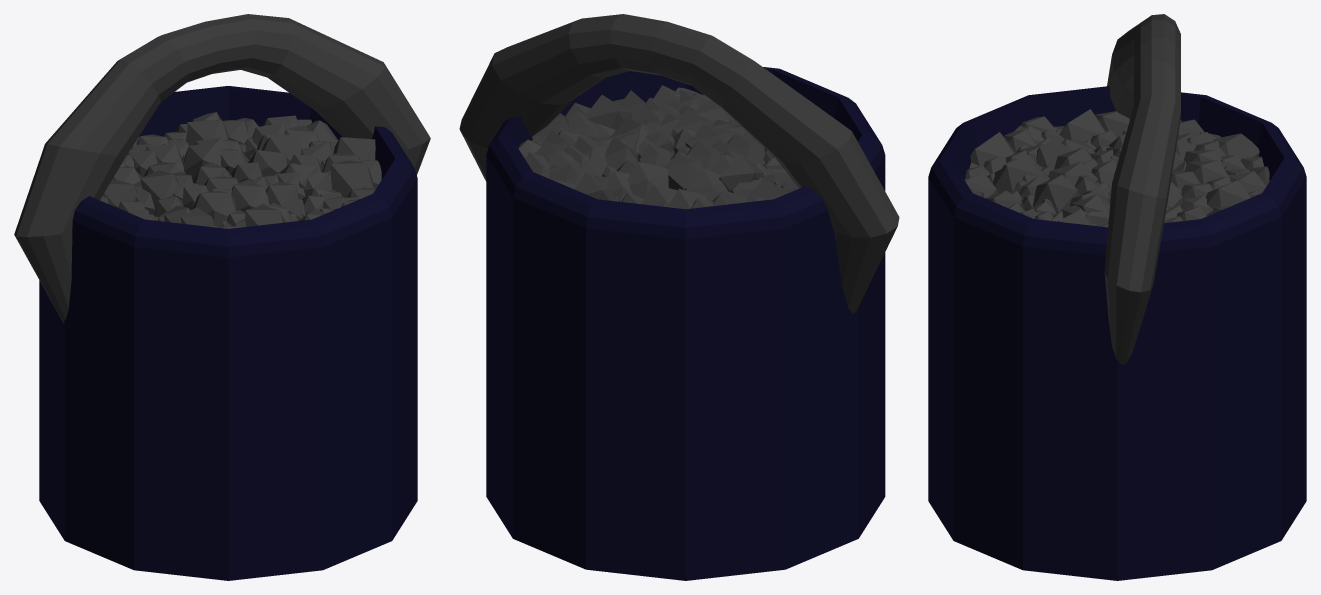
Rendered from StoneBucket.fbx.
The picture shows the model from 3 angles, left to right: view 1: azimuth 30°, elevation 25°; view 2: azimuth 150°, elevation 25°; view 3: azimuth 270°, elevation 25°; orthographic projection. The views are drawn at different scales.
Parts seen in each view (by area): view 1: Torus.001; view 2: Torus.001; view 3: Torus.001.
Part boxes in pixels (box(x1,y1,x2,y2)): Torus.001: box(14, 14, 430, 580); Torus.001: box(459, 14, 899, 580); Torus.001: box(928, 14, 1306, 580).
Size of the model in its own units: 252 by 270 by 200.
